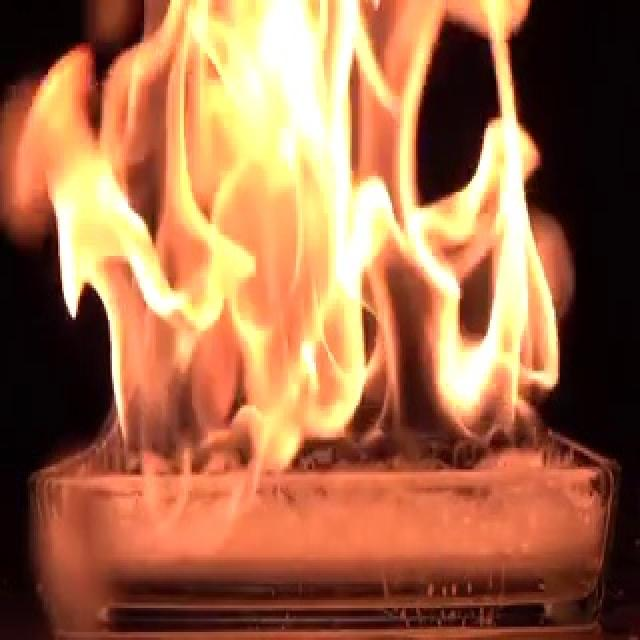fire: (6, 0, 572, 483)
